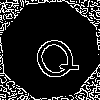Q: (25, 25, 82, 87)
